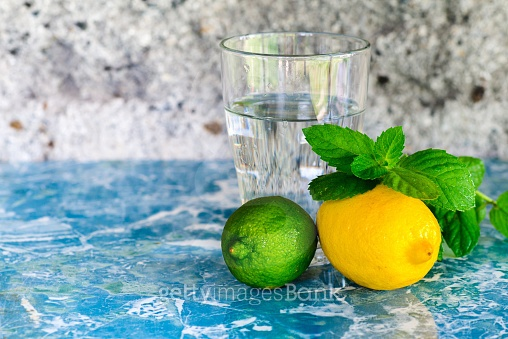glass of water: (219, 27, 374, 225)
